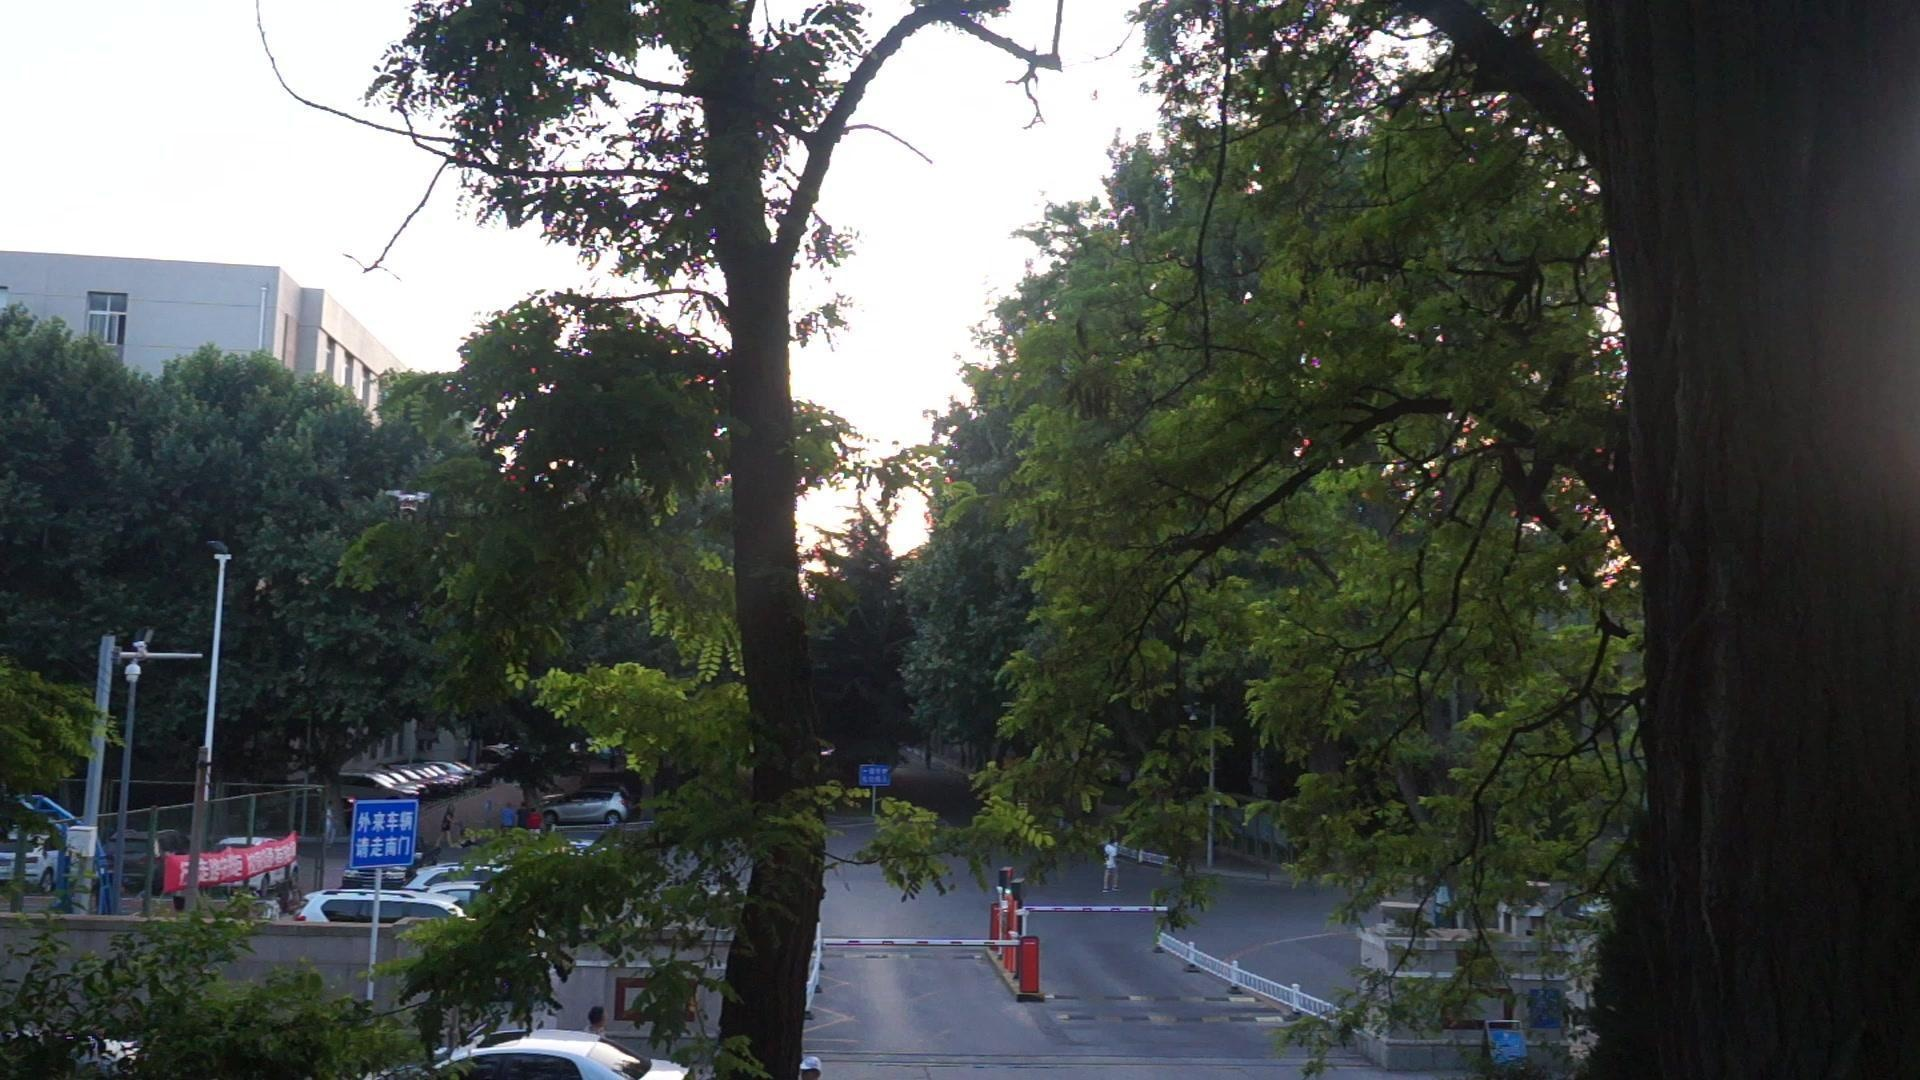UAV: (386, 491, 433, 514)
